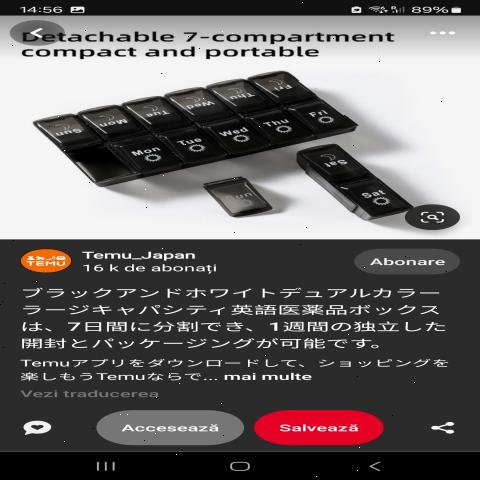PillBox: (15, 65, 366, 182)
